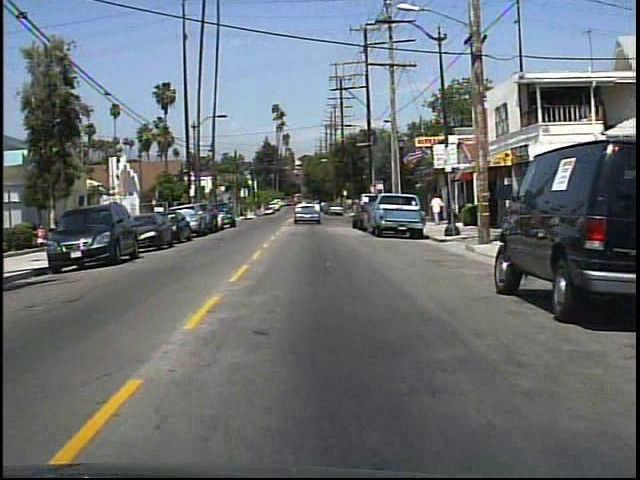person: (429, 190, 448, 228), (37, 222, 53, 251)
